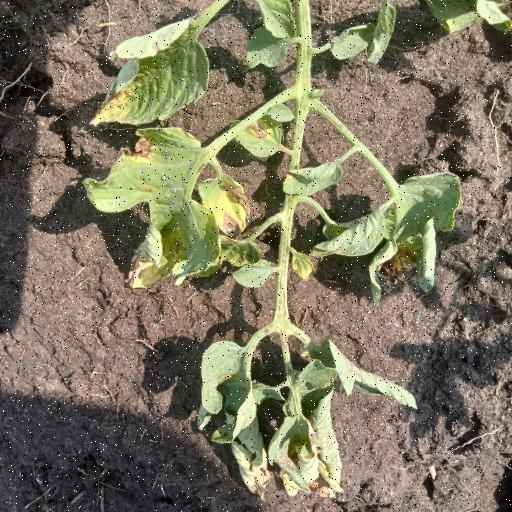Tomato_Brown_Spots: (83, 127, 250, 293), (360, 166, 464, 309), (96, 15, 221, 128)
